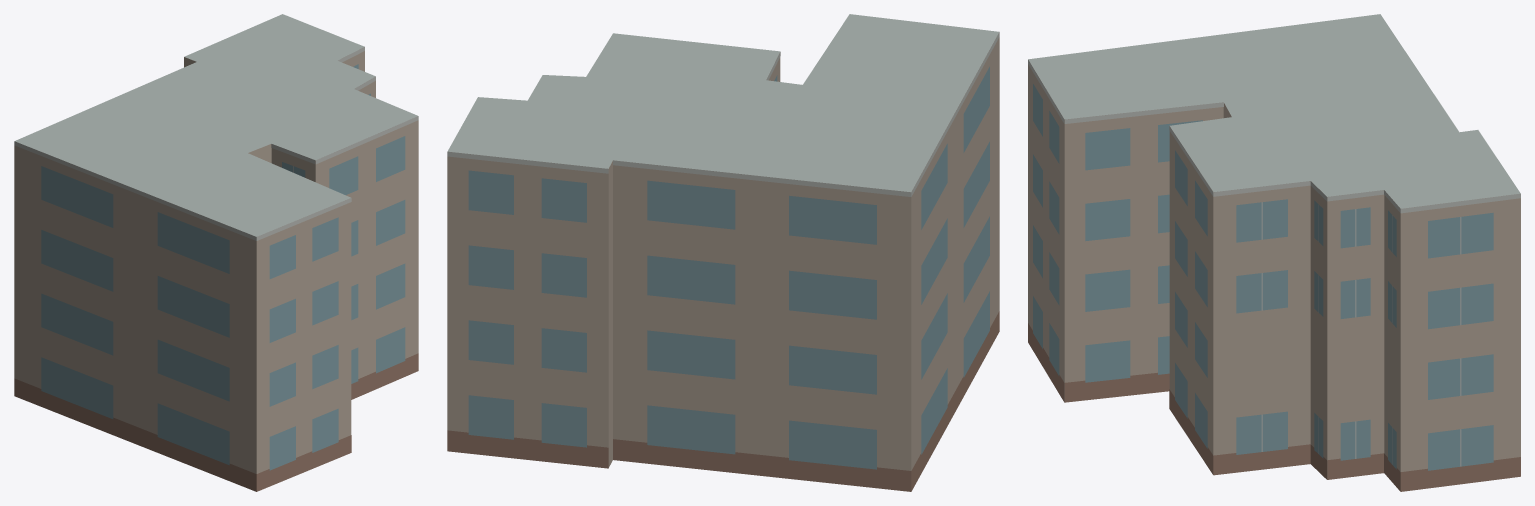
Rendered from survey-upis-32863182.glb.
3 views of the same model, side by side, from view 1: azimuth 30°, elevation 25°; view 2: azimuth 150°, elevation 25°; view 3: azimuth 270°, elevation 25° (orthographic). The views are drawn at different scales.
Visible parts, largest first — view 1: survey-upis-32863182.tmp; view 2: survey-upis-32863182.tmp; view 3: survey-upis-32863182.tmp.
Part boxes in pixels (box(x1,y1,x2,y2)): survey-upis-32863182.tmp: box(14, 14, 418, 491); survey-upis-32863182.tmp: box(447, 14, 999, 491); survey-upis-32863182.tmp: box(1028, 14, 1520, 491).
Bounding box in the file's own units: 22.07 × 14.95 × 23.6.
